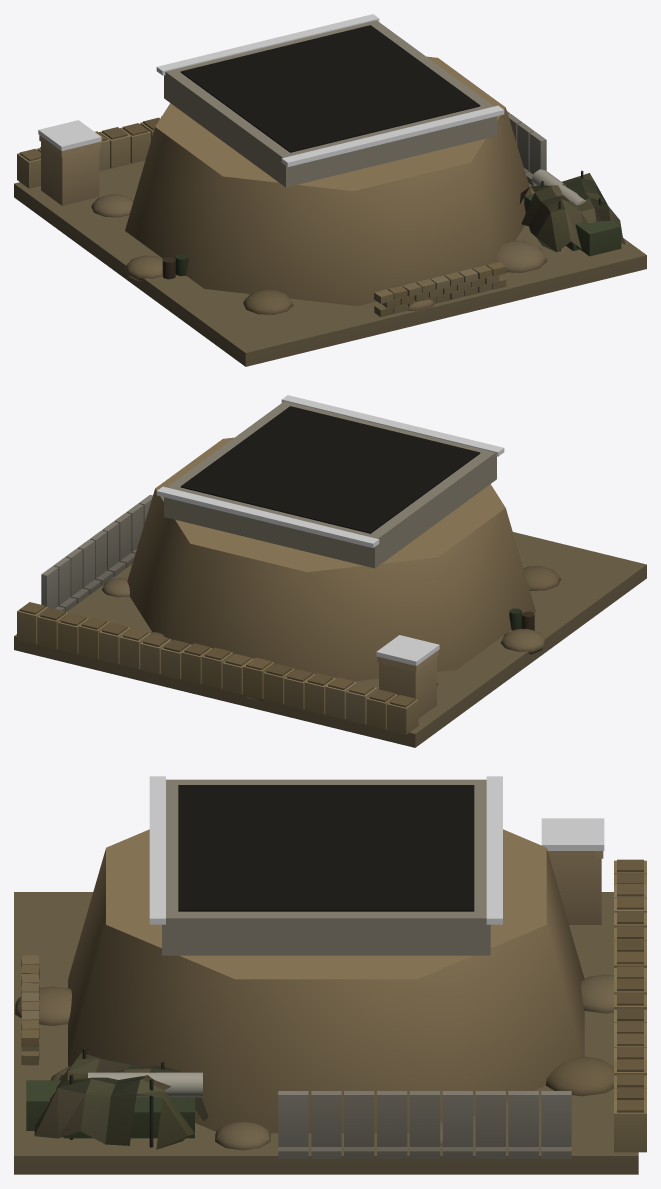
File: m_uplink_8858cbea.glb
3 views of the same model, one above another, from view 1: azimuth 30°, elevation 25°; view 2: azimuth 150°, elevation 25°; view 3: azimuth 270°, elevation 25° (orthographic). The views are drawn at different scales.
Parts seen in each view (by area): view 1: mesh; view 2: mesh; view 3: mesh.
Part boxes in pixels (box(x1,y1,x2,y2)): mesh: box(14, 14, 646, 366); mesh: box(14, 395, 646, 747); mesh: box(14, 776, 646, 1174).
Size of the model in its own units: 79.61 by 26.2 by 77.
